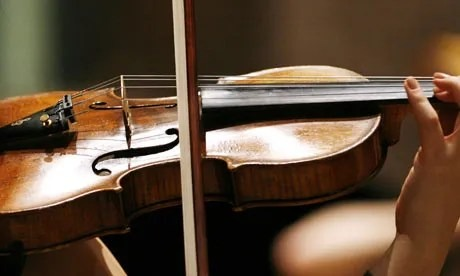Violin: (1, 9, 454, 240)
